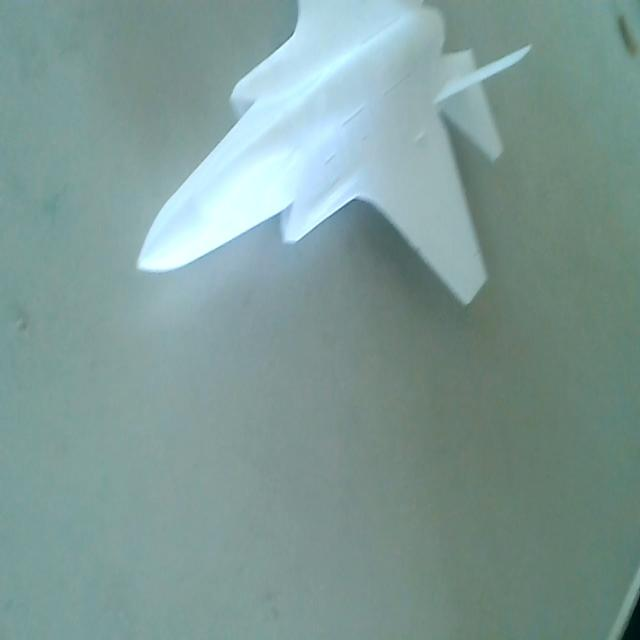Jet: (131, 0, 534, 313)
